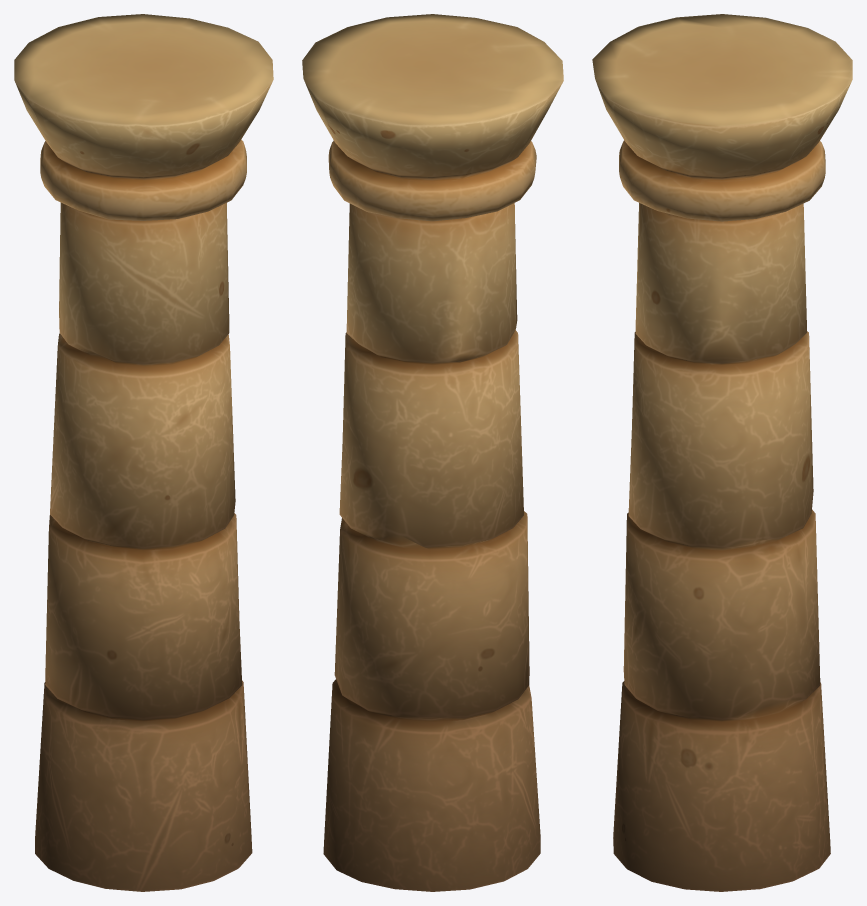
The model's file is Column.fbx.
3 views of the same model, side by side, from view 1: azimuth 30°, elevation 25°; view 2: azimuth 150°, elevation 25°; view 3: azimuth 270°, elevation 25° (orthographic).
Visible parts, largest first — view 1: Column_LP; view 2: Column_LP; view 3: Column_LP.
Part boxes in pixels (x1=…): Column_LP: x1=14, y1=14, x2=273, y2=891; Column_LP: x1=302, y1=14, x2=563, y2=891; Column_LP: x1=592, y1=14, x2=852, y2=891.
Size of the model in its own units: 186 by 182 by 600.
